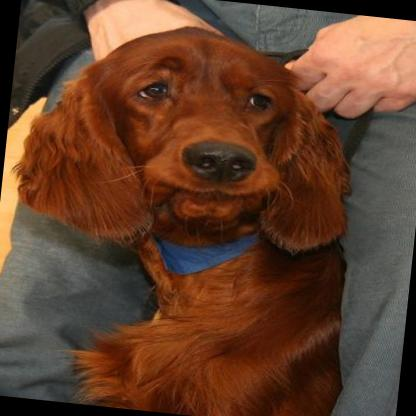Irish_setter: (0, 2, 386, 416)
